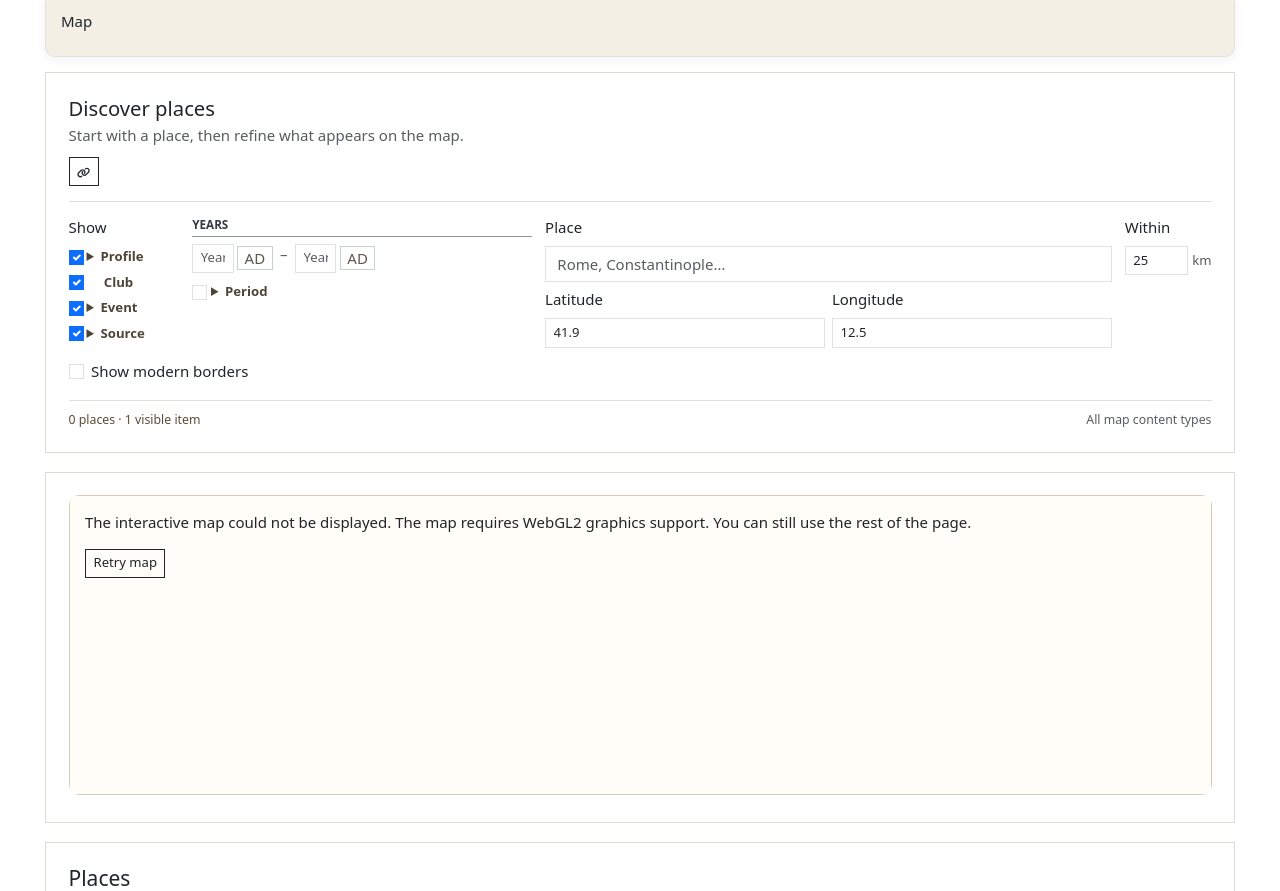
Scenario: coalesces year edits and keeps previous markers until the latest page resolves
Later steps or results of the test are not shown.
Type "1" into the 1st field labelled "Year".
click(213, 258); type("1")  # box left=192, top=244, right=234, bottom=273
Wait 100 ms
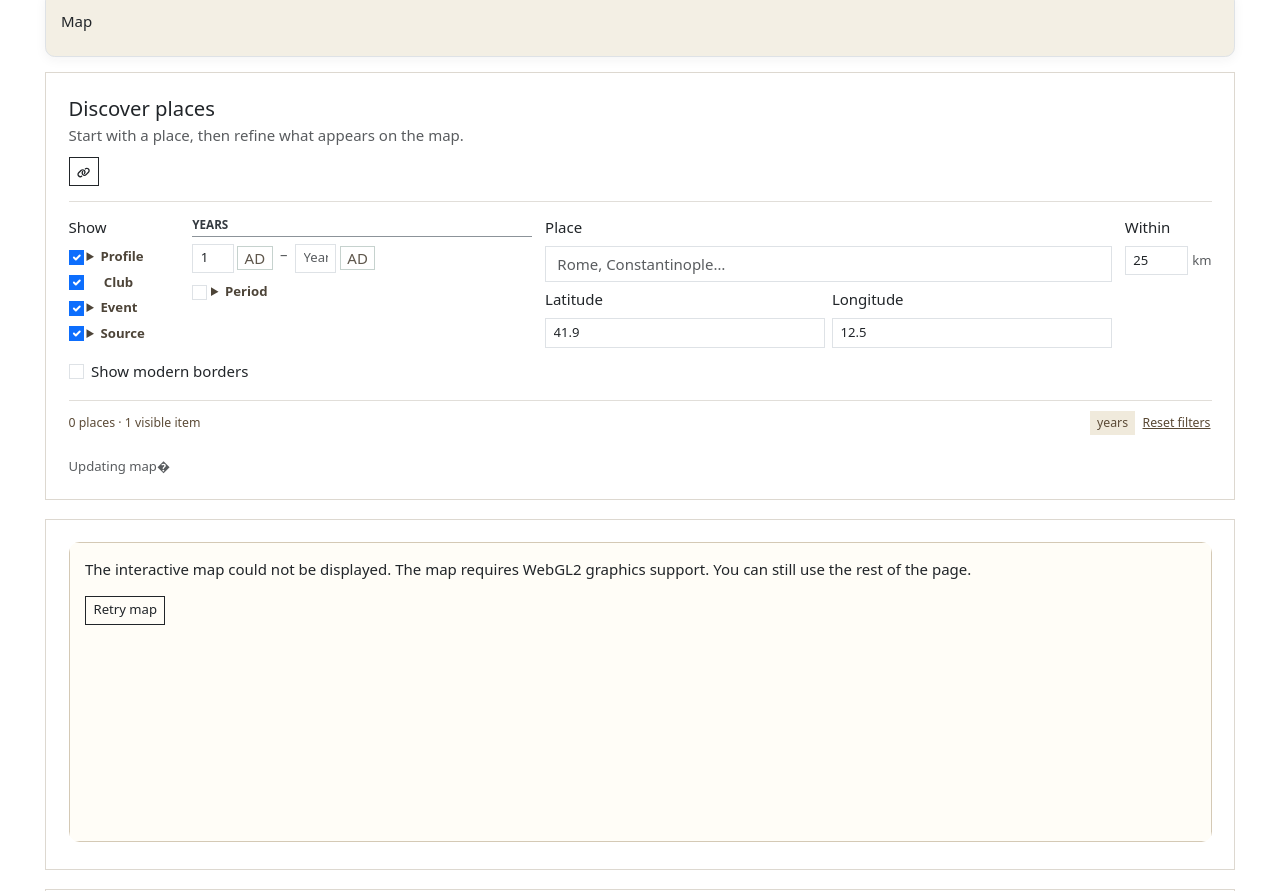
Replace the text in the field named "Year" with "18" at (213, 258), box left=192, top=244, right=234, bottom=273
Wait 100 ms
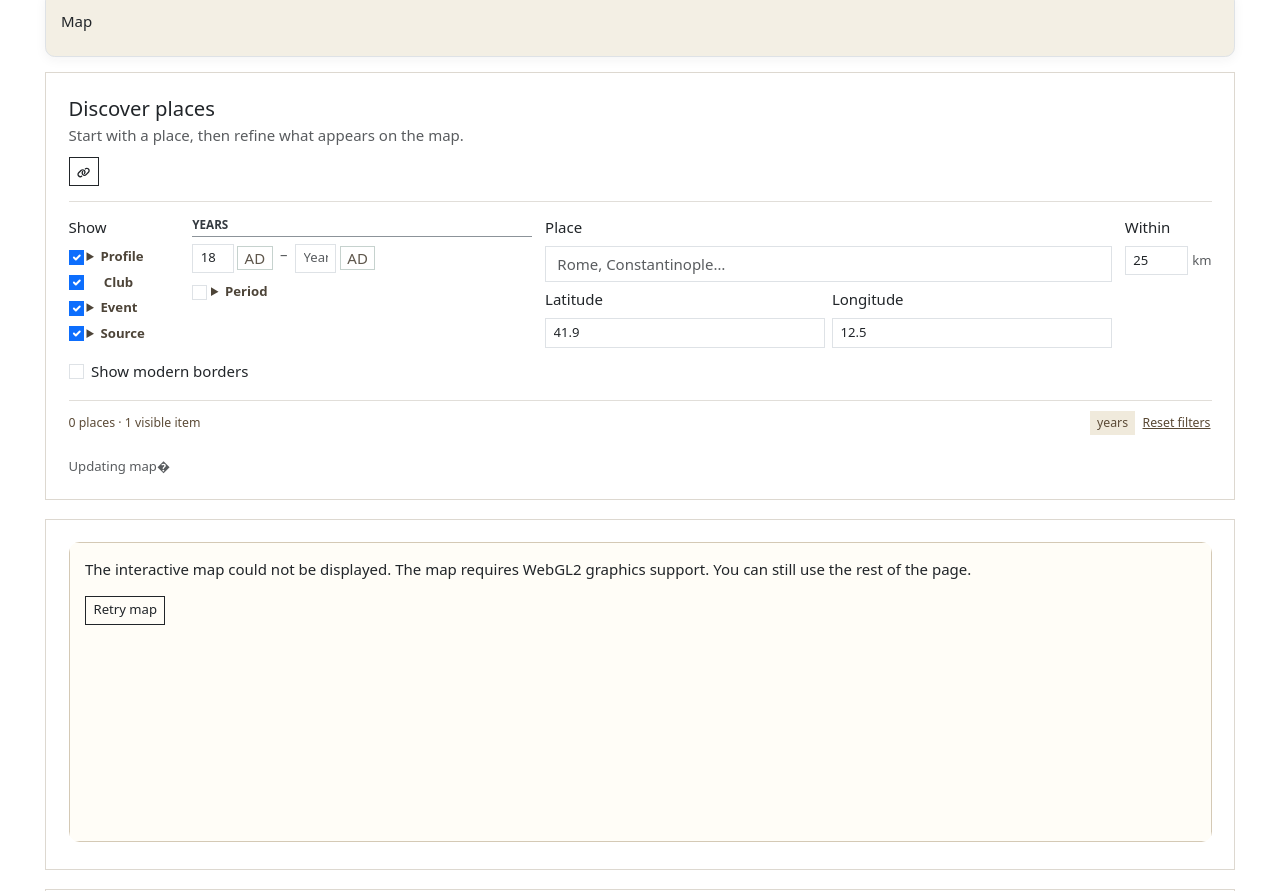
Replace the text in the field named "Year" with "185" at (213, 258), box left=192, top=244, right=234, bottom=273
Wait 100 ms
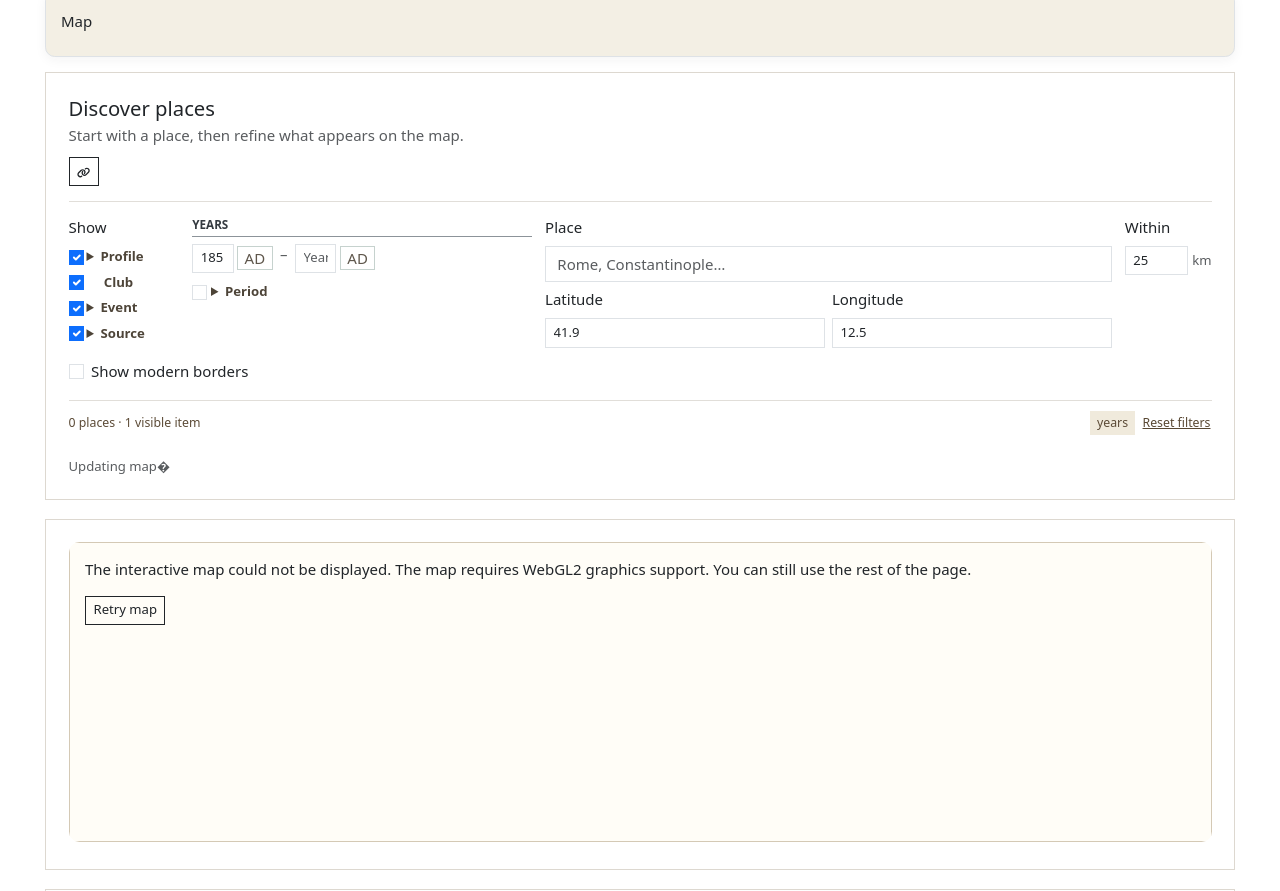
Replace the text in the field named "Year" with "1850" at (213, 258), box left=192, top=244, right=234, bottom=273
Wait 250 ms
(page scrolled)
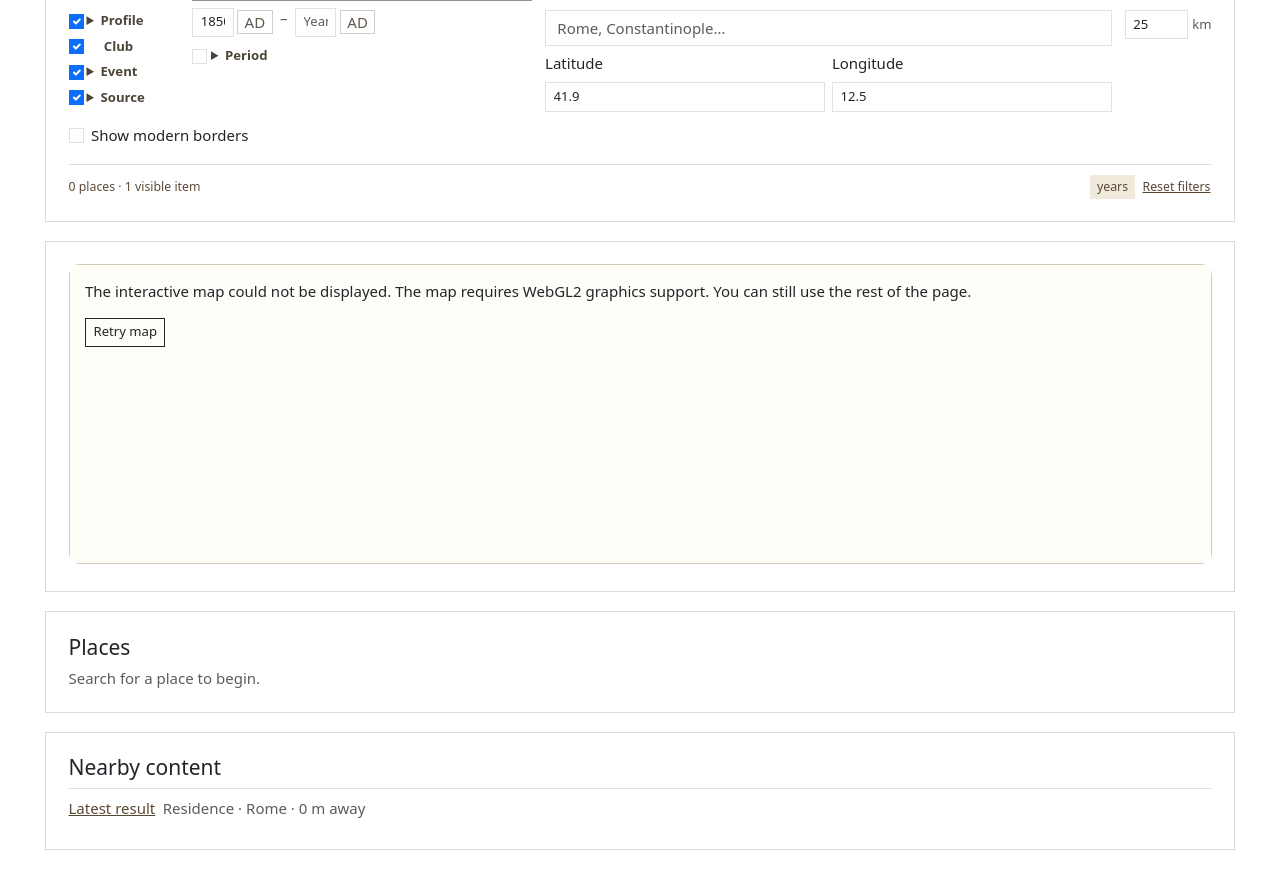
Expected: the link "Latest result" is shown, left=68, top=798, right=155, bottom=818
